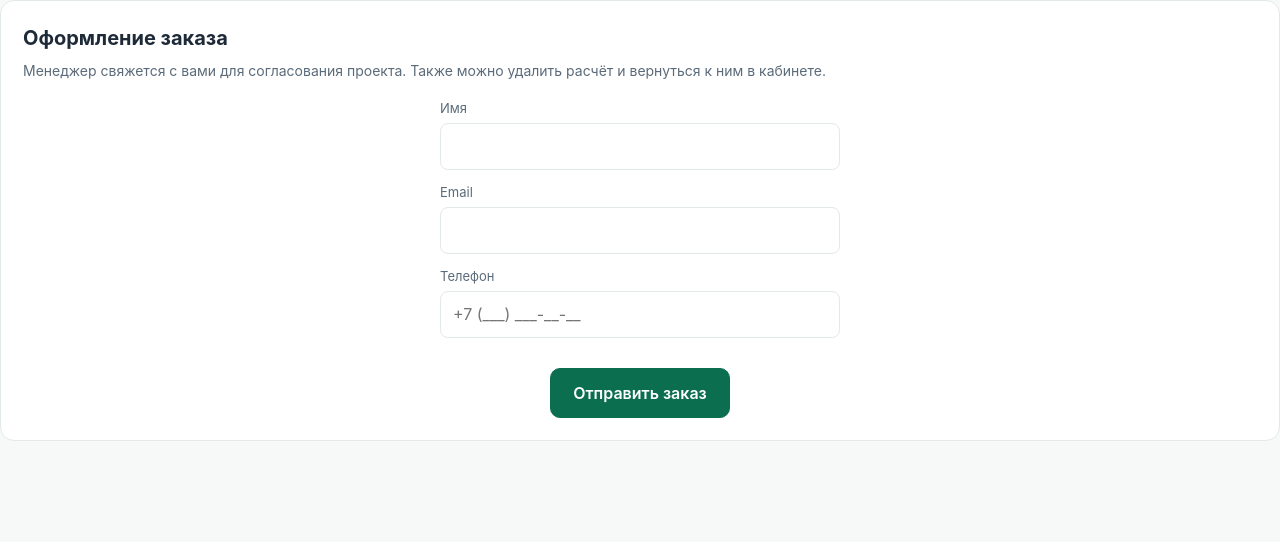
Test: OrderForm › валидирует обязательные имя и email
Check: the heading "Оформление заказа" is shown, box left=23, top=26, right=228, bottom=50
Click the button "Отправить заказ".
click(640, 393)  # box left=550, top=368, right=730, bottom=418
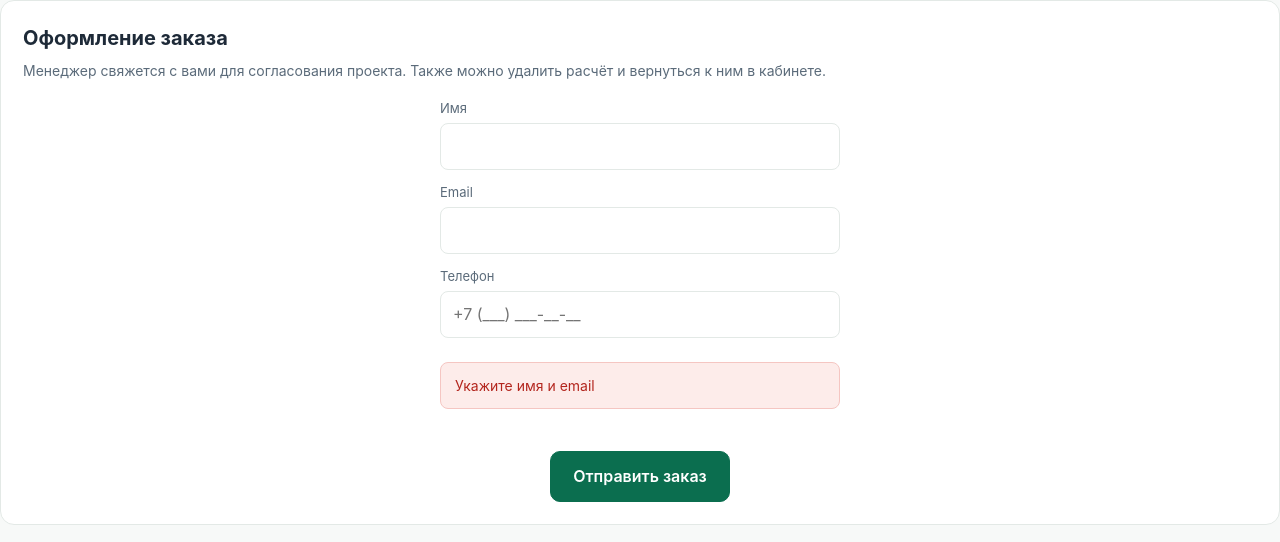
Check: the text "Укажите имя и email" is shown, box left=440, top=362, right=840, bottom=409
